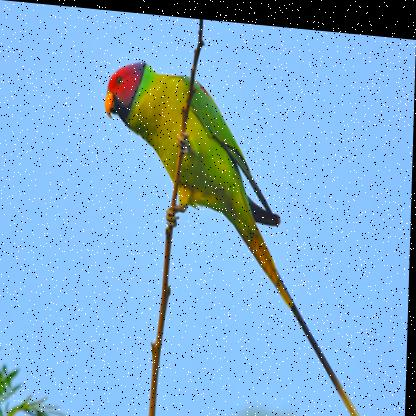Burung: (97, 55, 382, 415)
